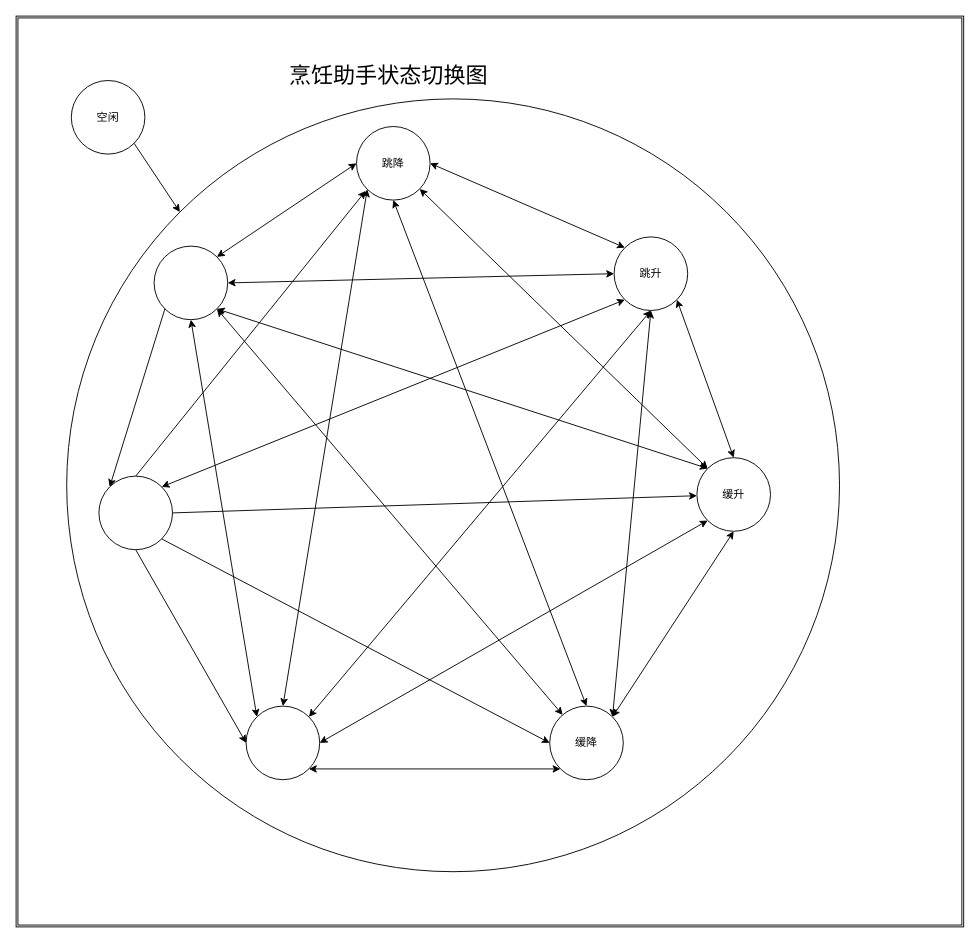
Image size: 980x943. Some labels were removed from this diagram. Here are the shapes that lost their labels. From the top down, the box of each, then its label:
(153, 245, 228, 320): 翻炒
(98, 475, 172, 550): 移锅小火
(245, 705, 320, 780): 平缓
